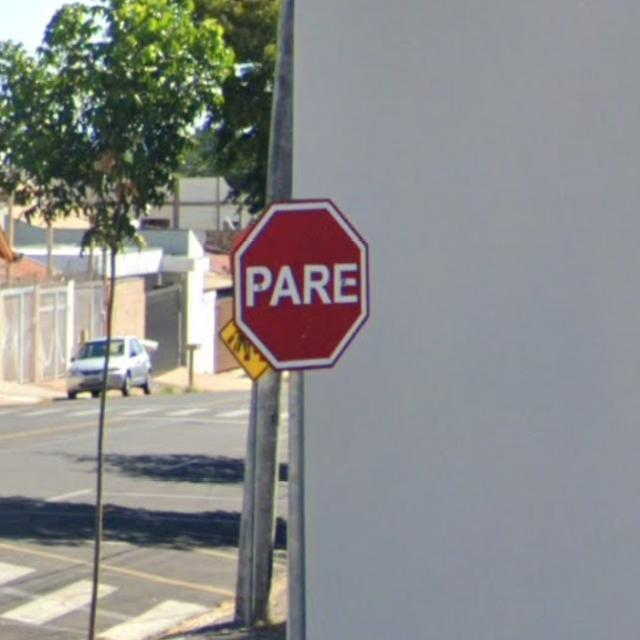stop: (232, 176, 395, 370)
